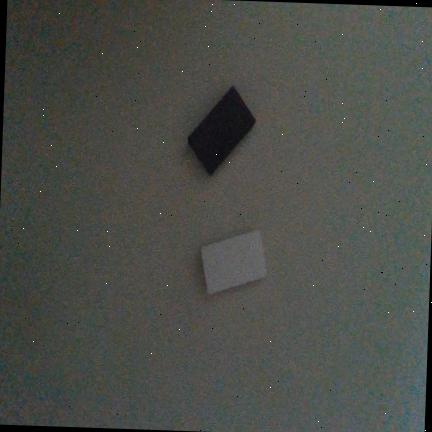Paralelepipedo: (188, 87, 256, 174), (200, 230, 267, 294)
